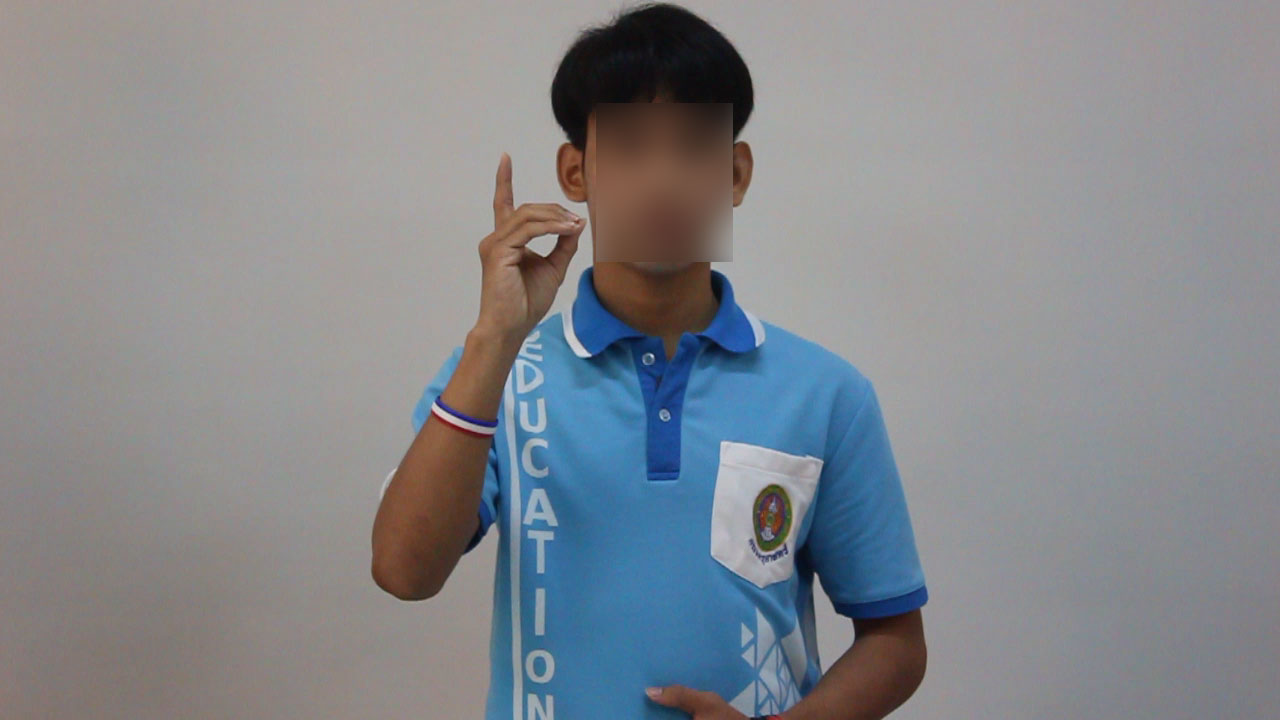dor: (464, 147, 592, 336)
